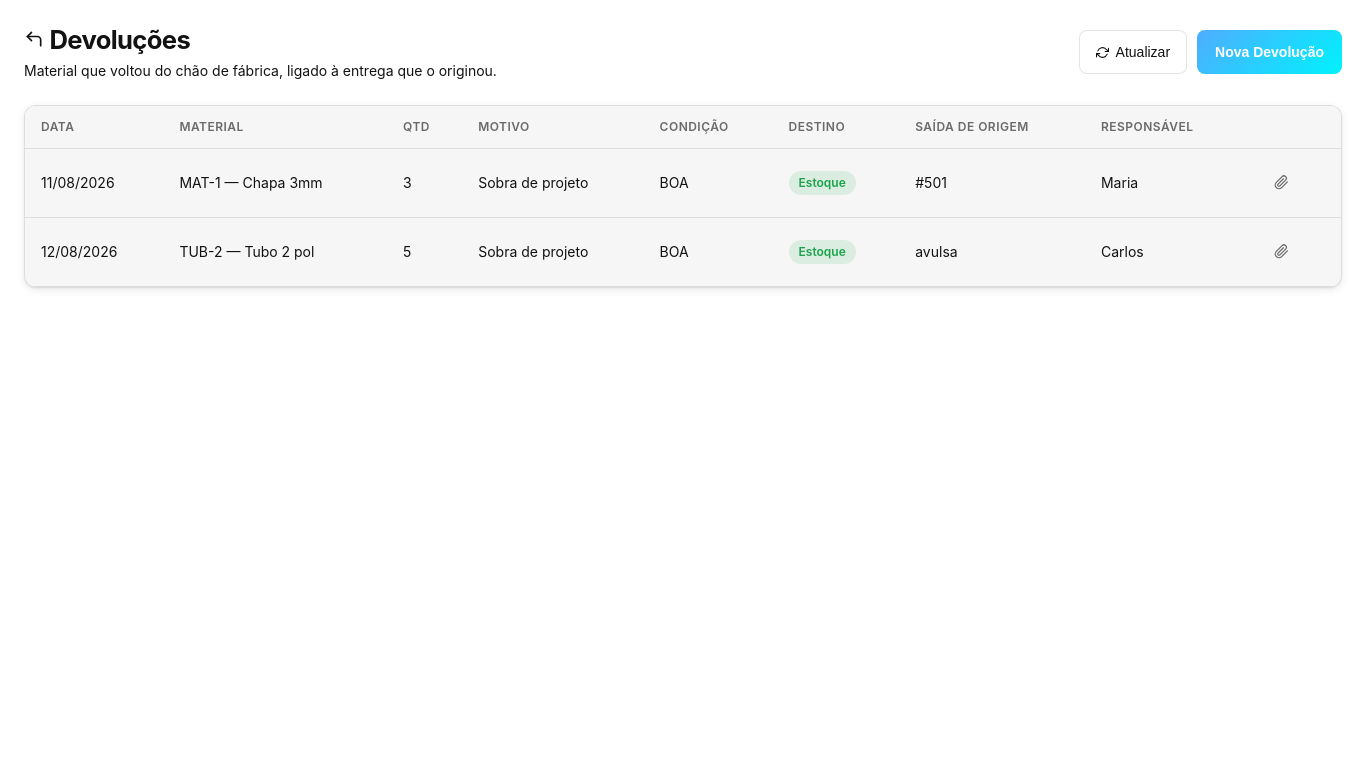
Test case: DevolucoesAlmoxarifado — lote e série › destino Sucata em material com série não oferece as séries e explica o caminho
This screenshot has width=1366, height=768.
Click the button "Nova Devolução" at (1270, 52), box [1197,30,1342,74]
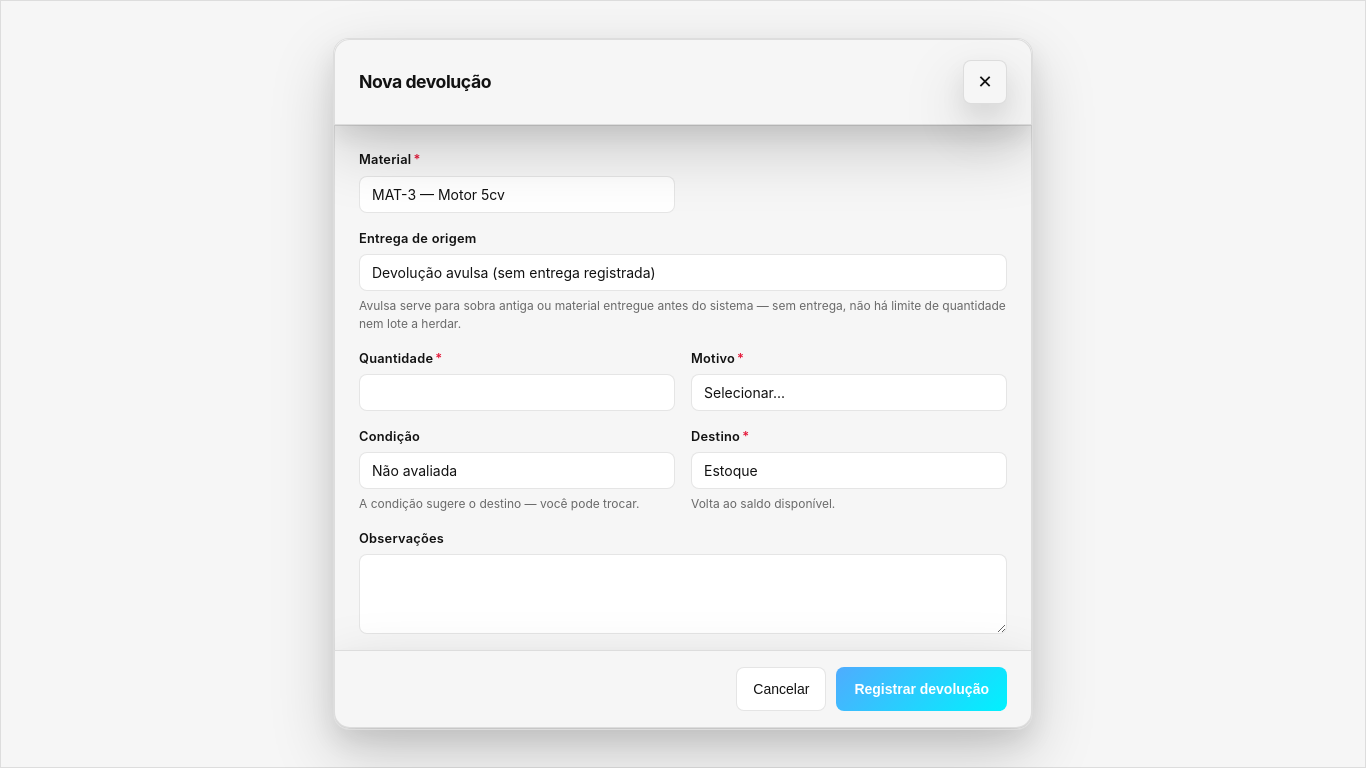
Select "MAT-3 — Motor 5cv" in the dropdown labelled "Material*" at (517, 194), box [359,176,675,213]
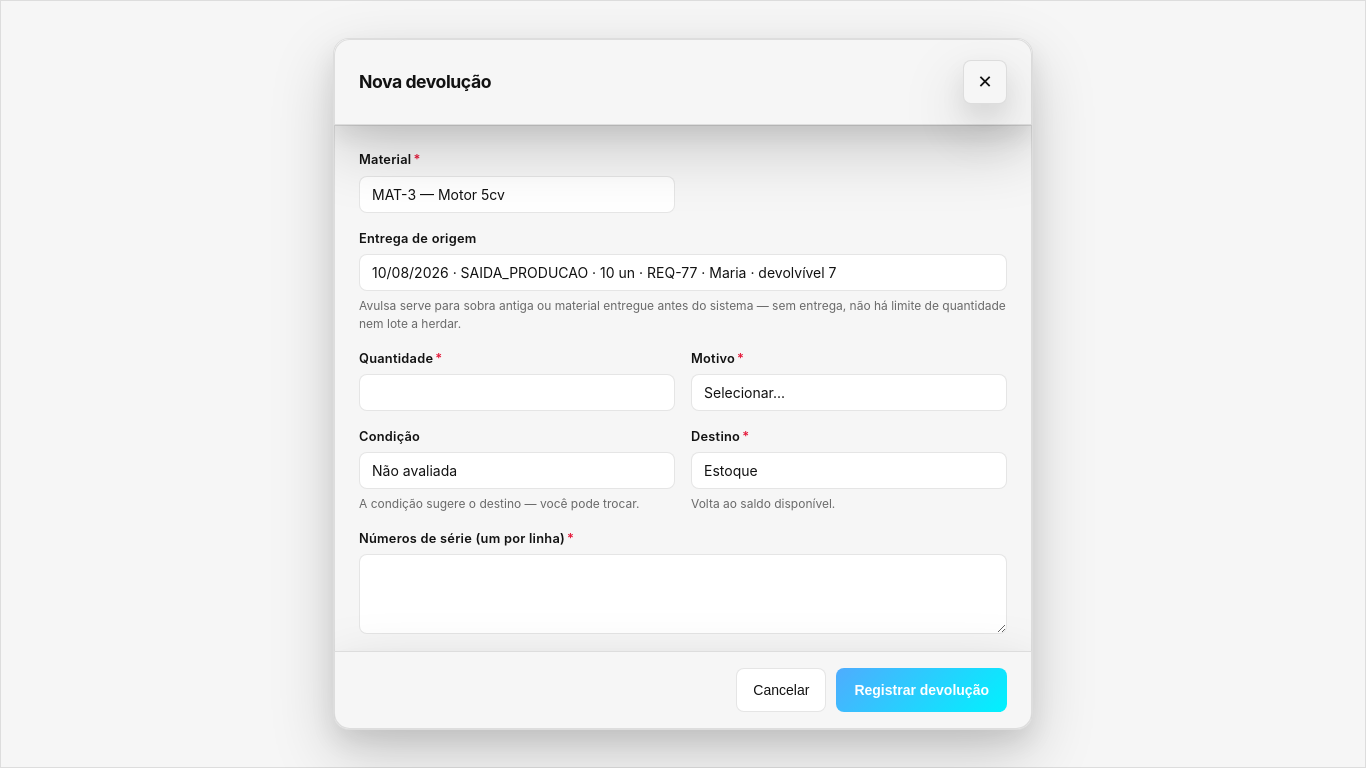
Select "10/08/2026 · SAIDA_PRODUCAO · 10 un · REQ-77 · Maria · devolvível 7" in the dropdown labelled "Entrega de origem" at (683, 272), box [359,254,1007,291]
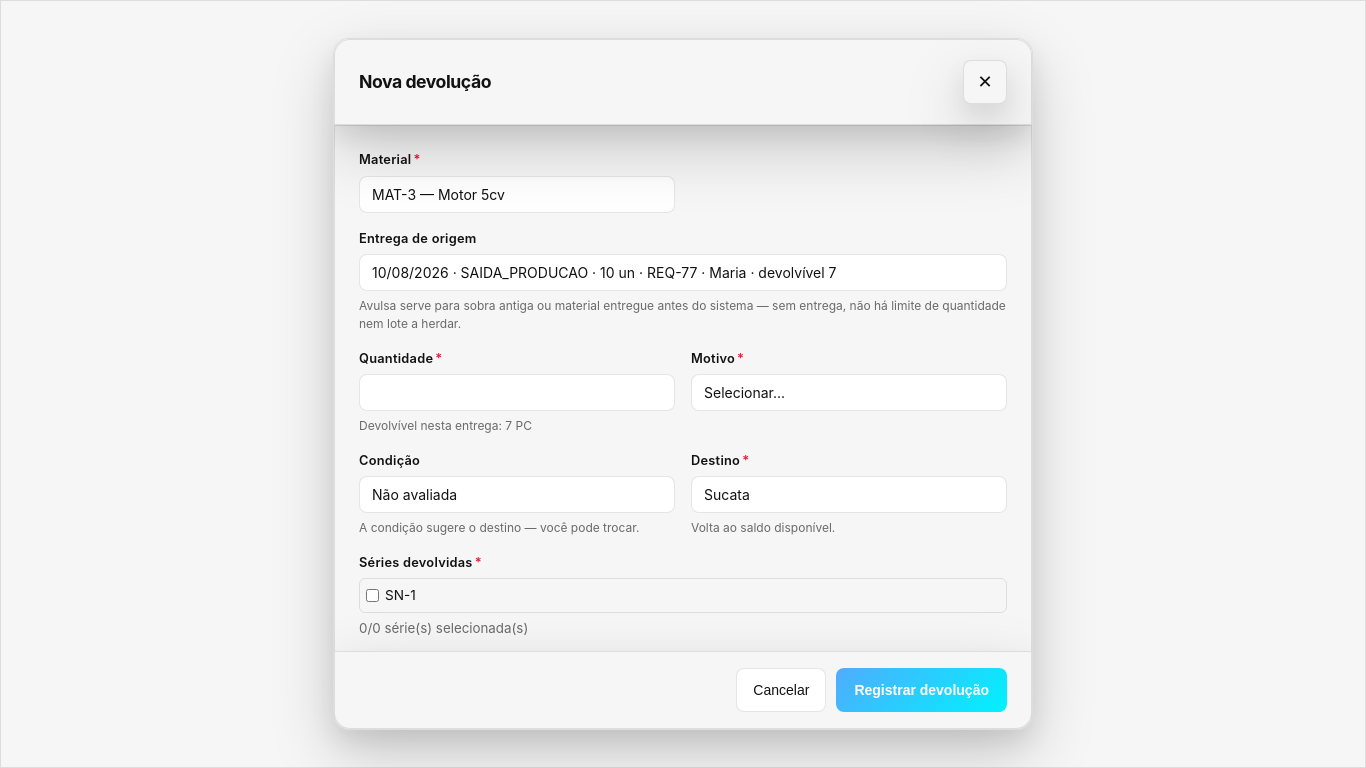
Select "Sucata" in the dropdown labelled "Destino*" at (849, 495), box [691,476,1007,513]
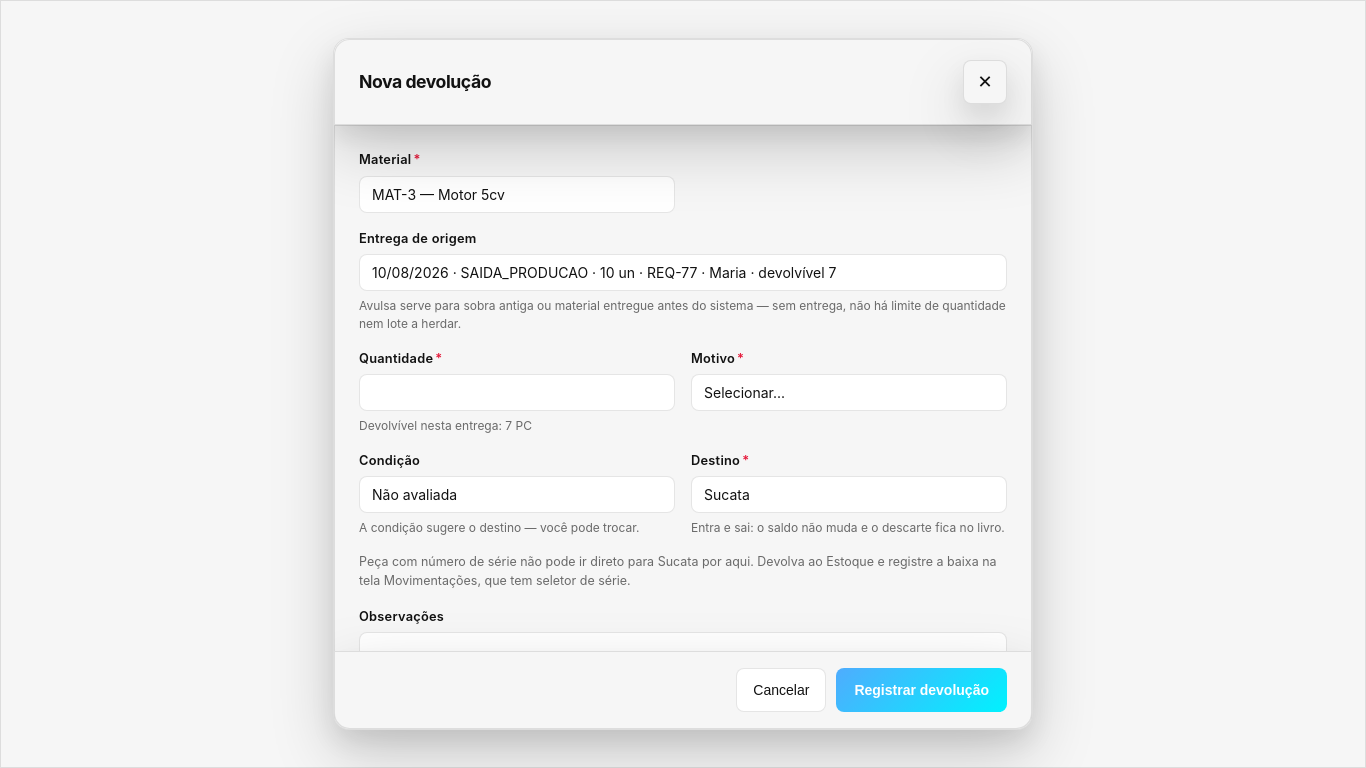
Expected: no checkboxes are shown
Expected: the element with class "almox-modal" shows "Movimenta", [359,554,996,588]
